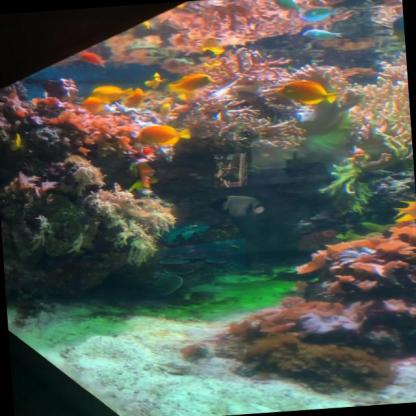fish: (275, 77, 342, 110), (207, 192, 267, 221), (133, 122, 191, 150), (167, 71, 220, 99), (131, 158, 165, 192), (90, 82, 133, 106), (389, 196, 415, 228), (390, 14, 406, 58), (302, 27, 343, 44), (121, 87, 150, 111), (298, 6, 337, 23), (81, 94, 111, 116), (142, 70, 172, 91), (197, 35, 223, 56), (81, 50, 107, 69), (272, 0, 303, 14)
